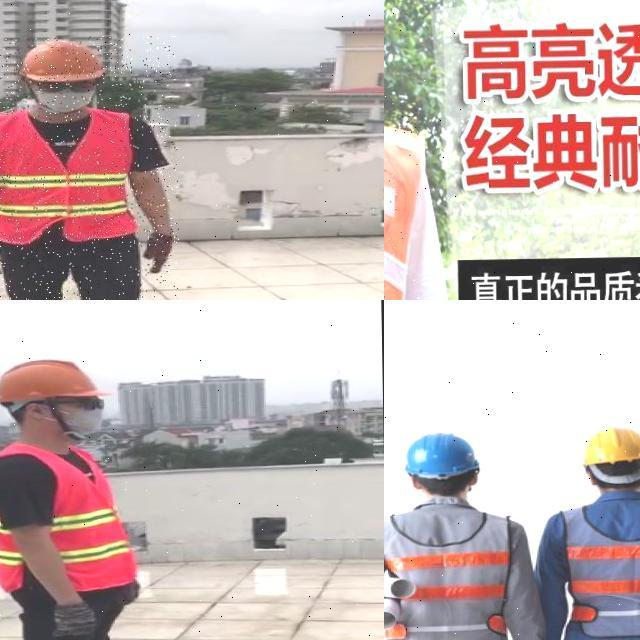helmet: (396, 428, 490, 489), (0, 355, 107, 405), (575, 424, 640, 498), (18, 38, 108, 84)
vest: (0, 438, 133, 589), (384, 500, 520, 640), (0, 108, 134, 241), (552, 491, 640, 640)
